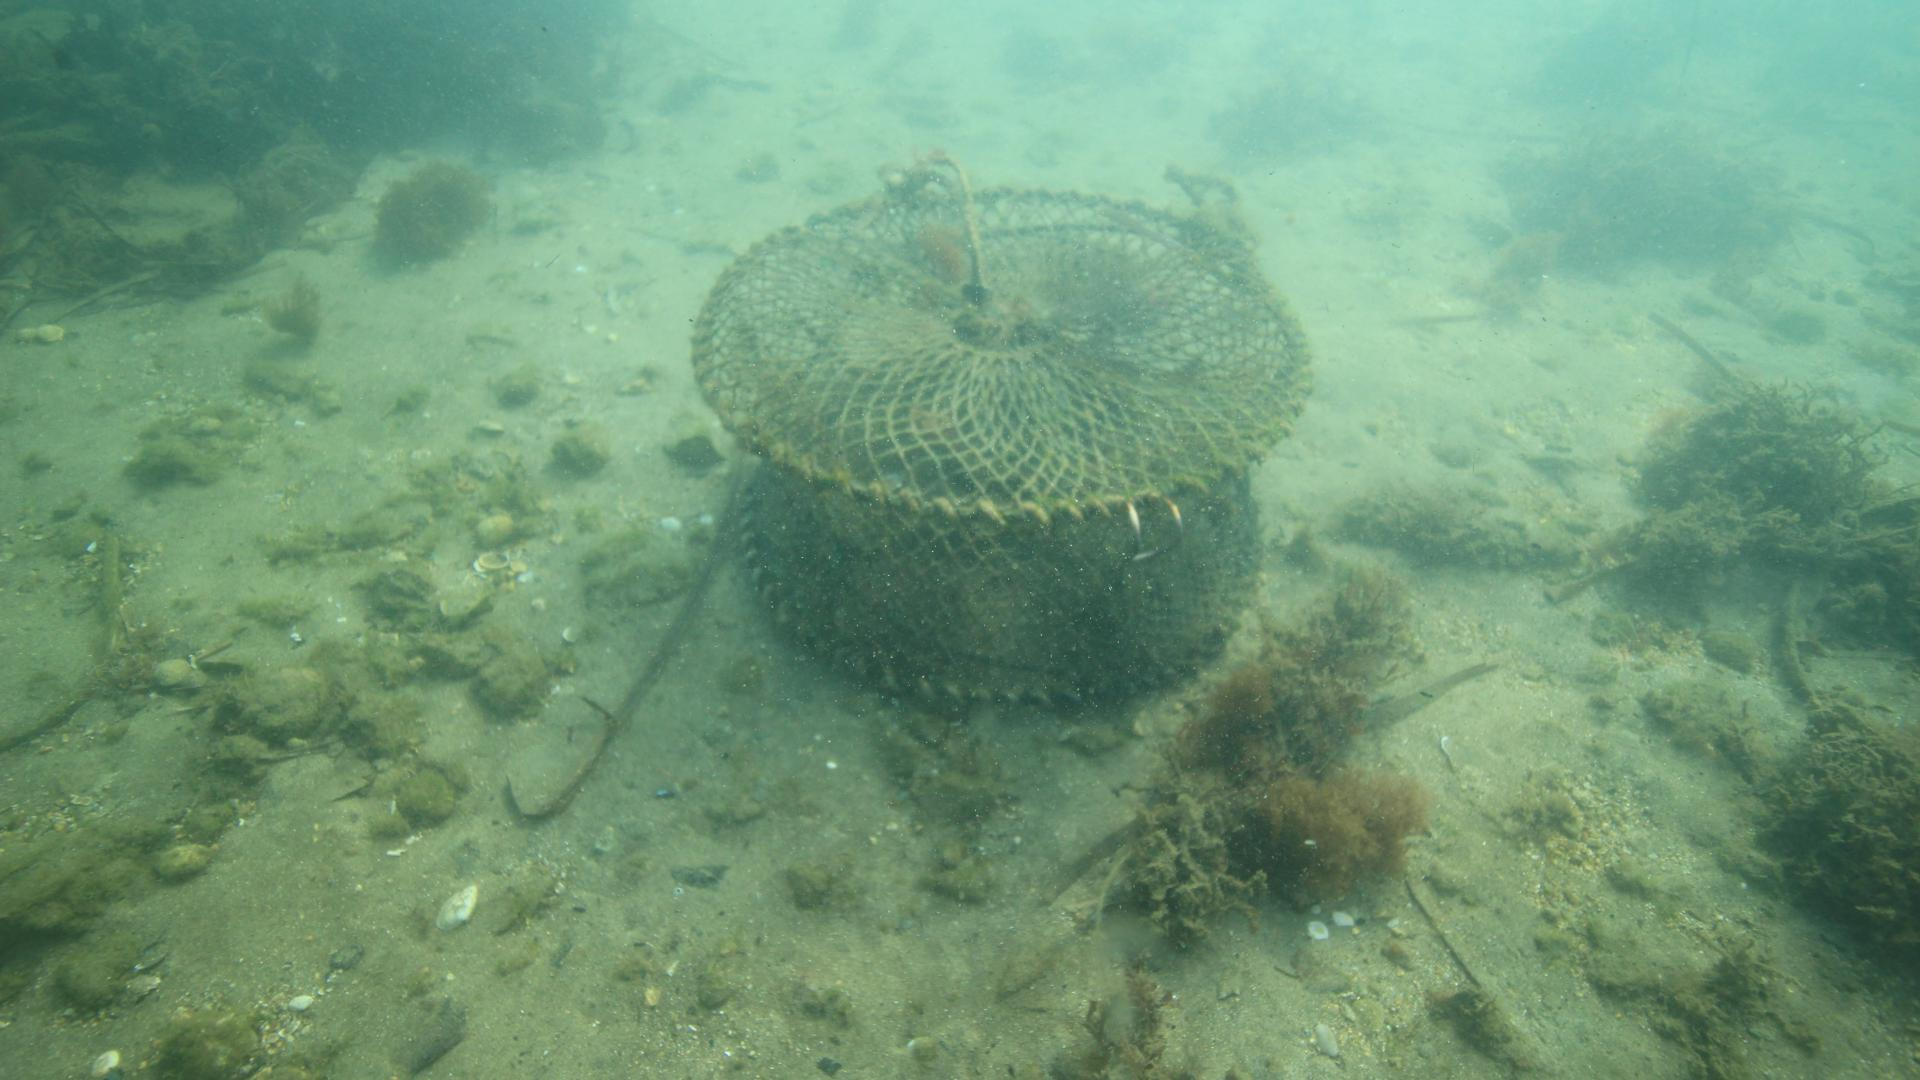circular fish trap: (688, 181, 1315, 709)
